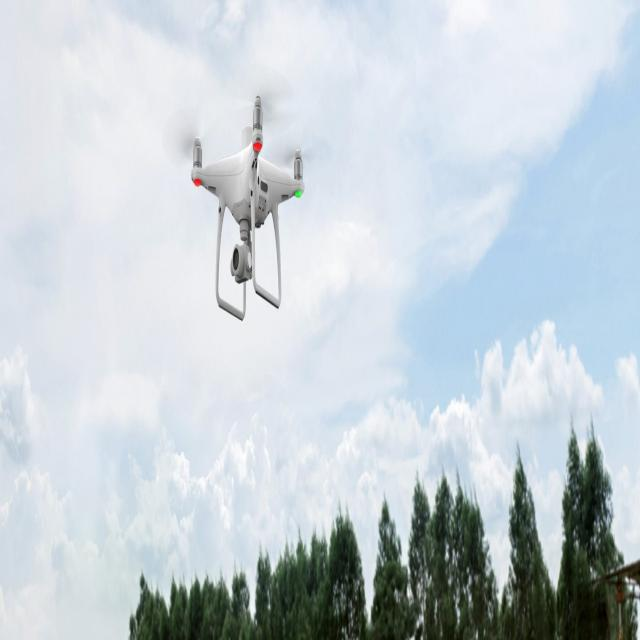drone: (181, 95, 306, 338)
